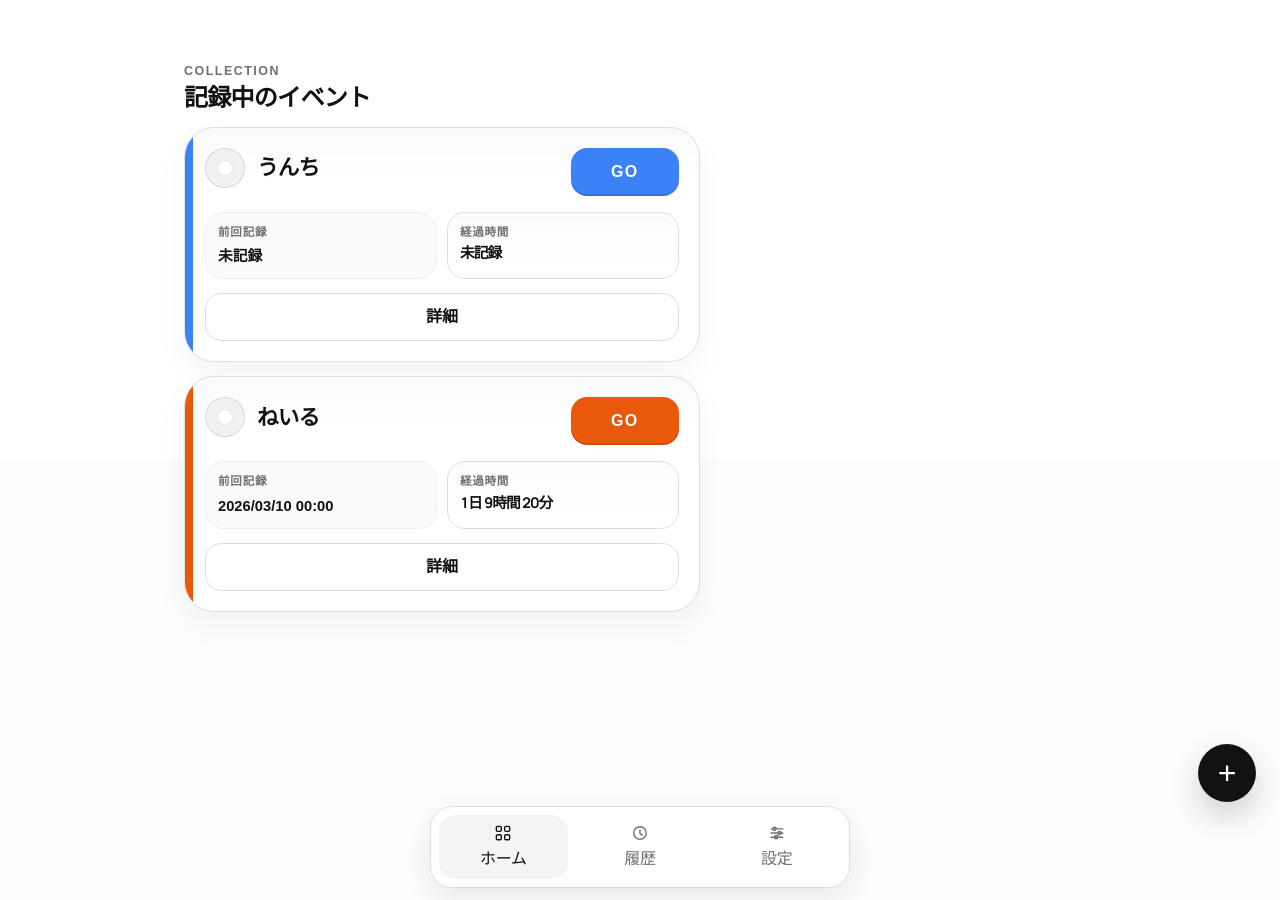
App › persists selected event sort order and applies it on home
The width and height of the screenshot is (1280, 900).
Click the button "設定" at (777, 847), box 712,815 -> 841,879
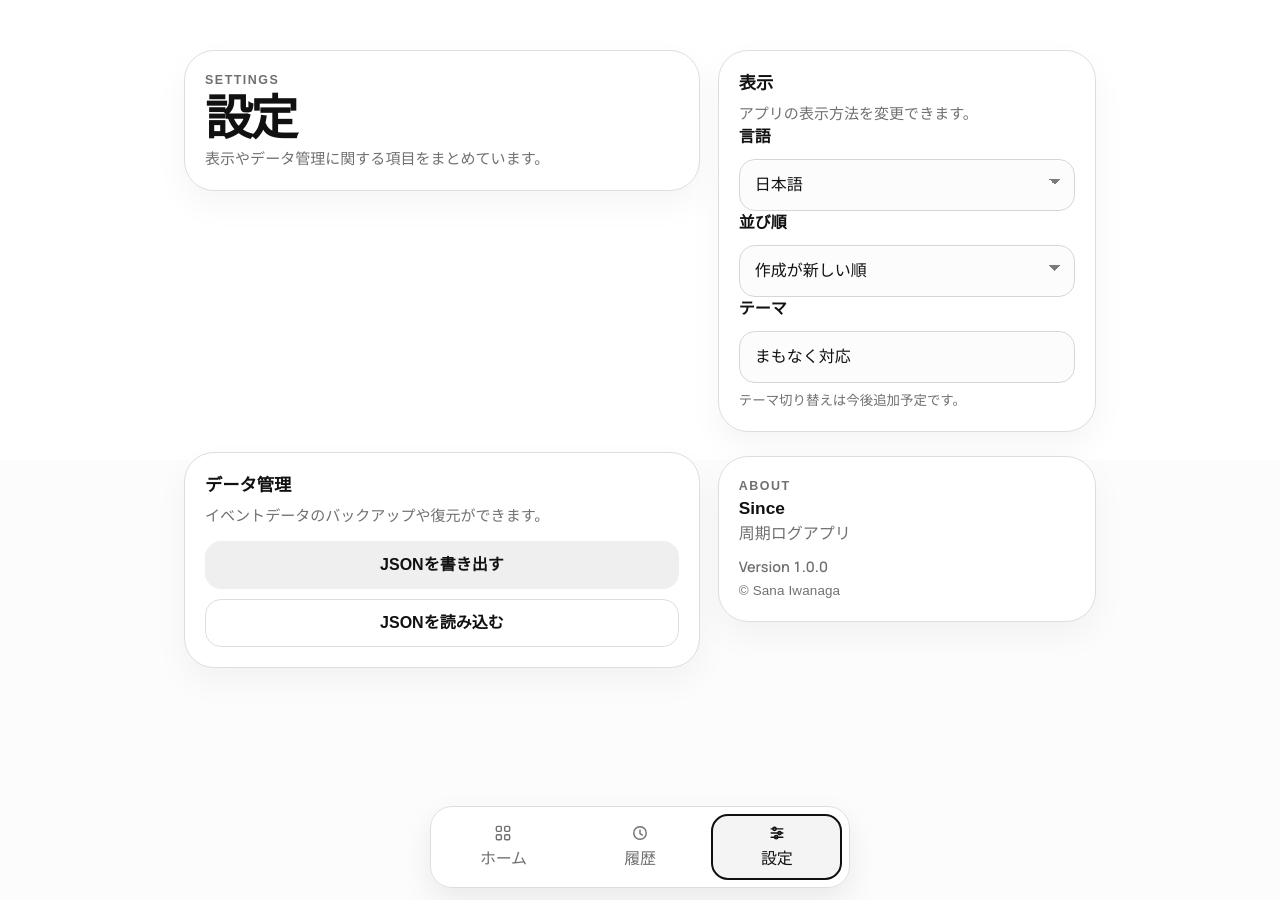
Select "名前順" in the dropdown labelled "並び順" at (907, 272), box 739,246 -> 1075,298
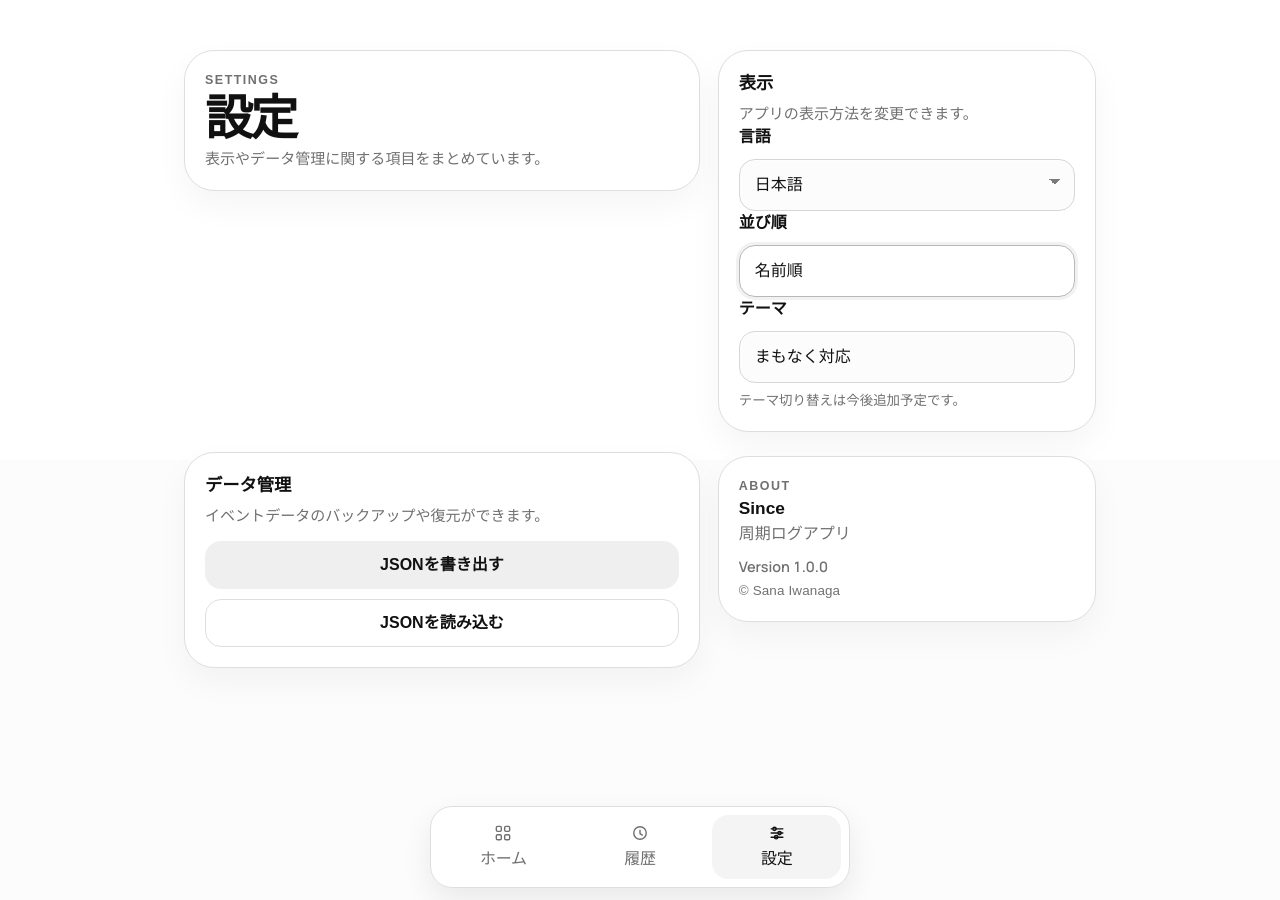
Click the button "ホーム" at (503, 847), box 439,815 -> 568,879
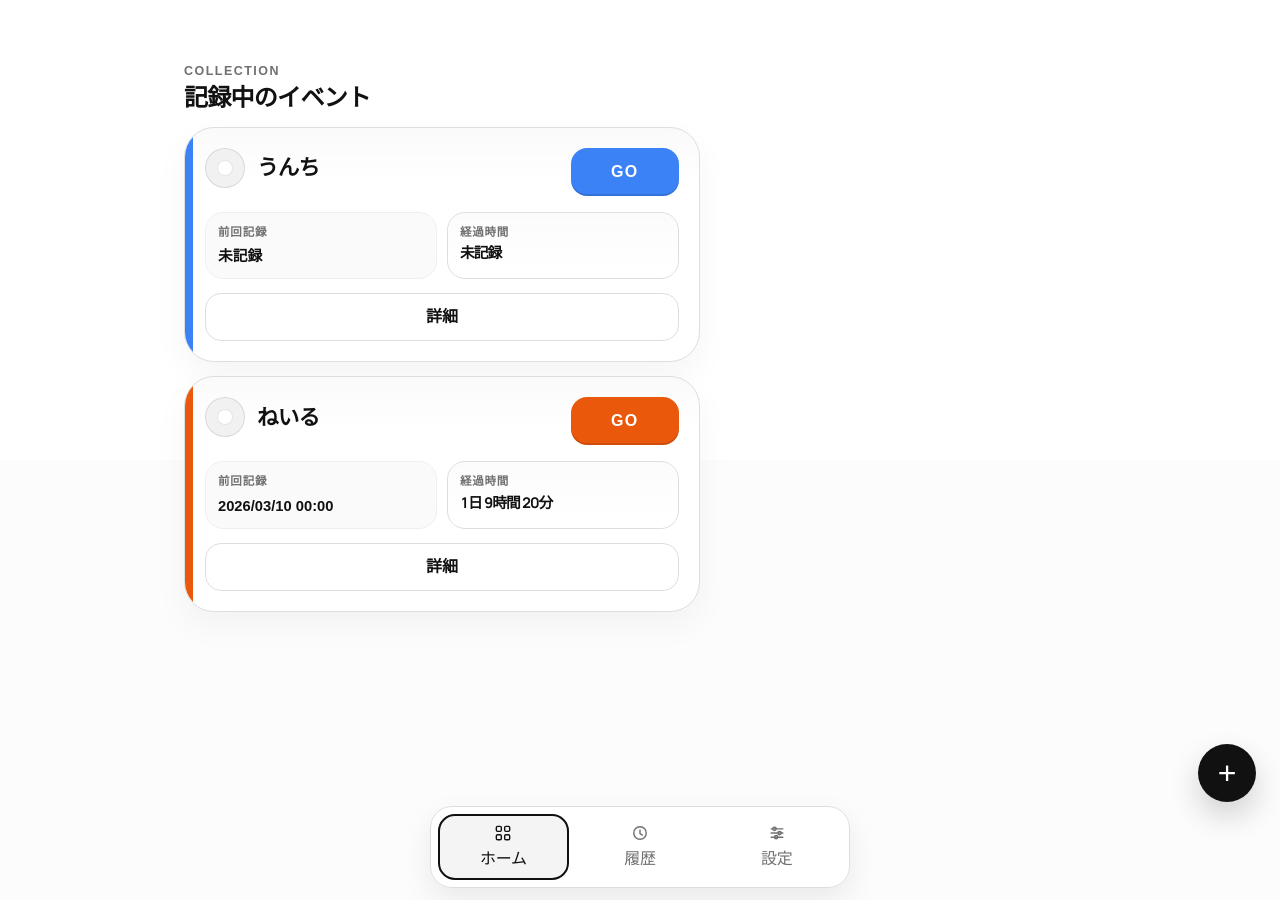
expect the heading "うんち" is shown: met, box 257,156 -> 319,180
expect the heading "ねいる" is shown: met, box 257,406 -> 319,429
